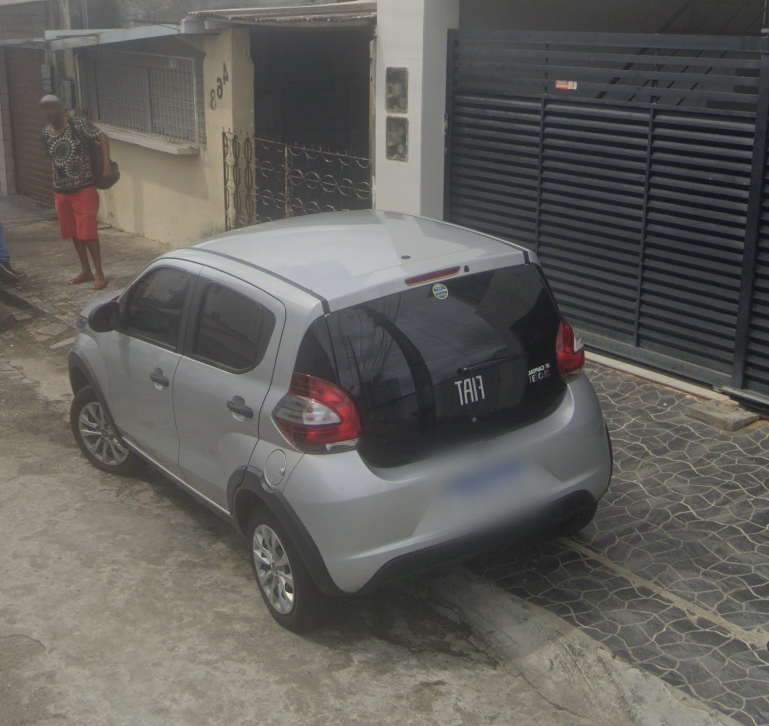car: (64, 204, 616, 635)
